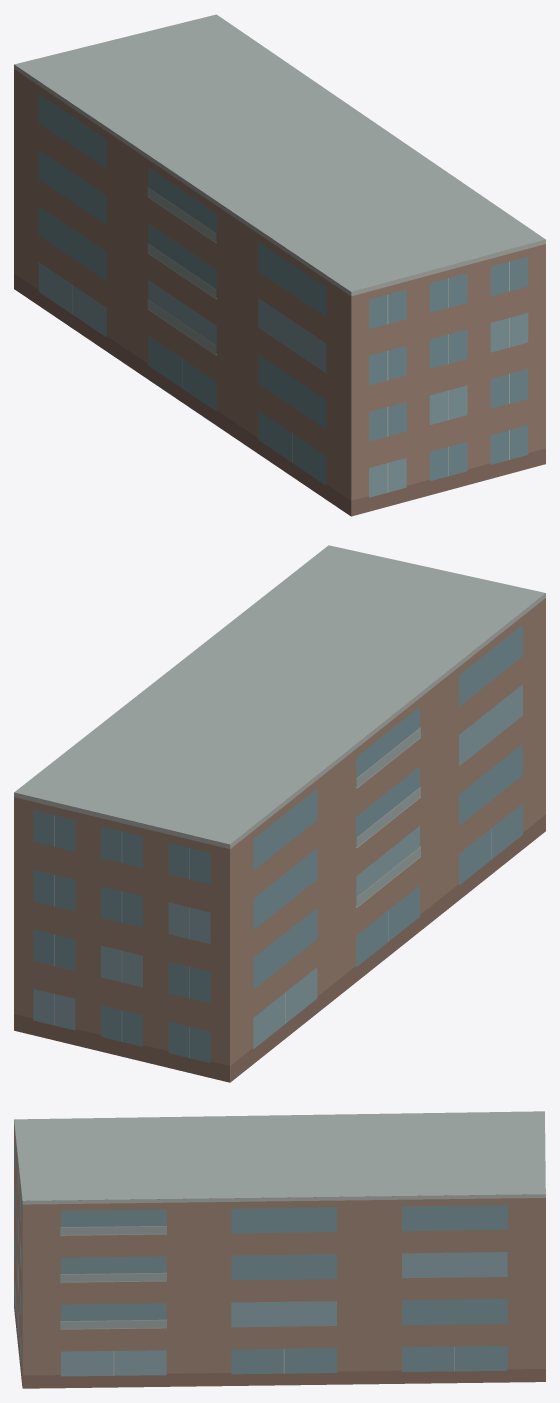
File: survey-upis-33029343.glb
The picture shows the model from 3 angles, top to bottom: view 1: azimuth 30°, elevation 25°; view 2: azimuth 150°, elevation 25°; view 3: azimuth 270°, elevation 25°; orthographic projection. The views are drawn at different scales.
Visible parts, largest first — view 1: survey-upis-33029343.tmp; view 2: survey-upis-33029343.tmp; view 3: survey-upis-33029343.tmp.
Boxes of the visible parts, x1,y1,x2,y2 form: survey-upis-33029343.tmp: (14,14,545,516); survey-upis-33029343.tmp: (14,545,545,1082); survey-upis-33029343.tmp: (14,1111,545,1388).
Bounding box in the file's own units: 12.49 × 12.2 × 31.32.
